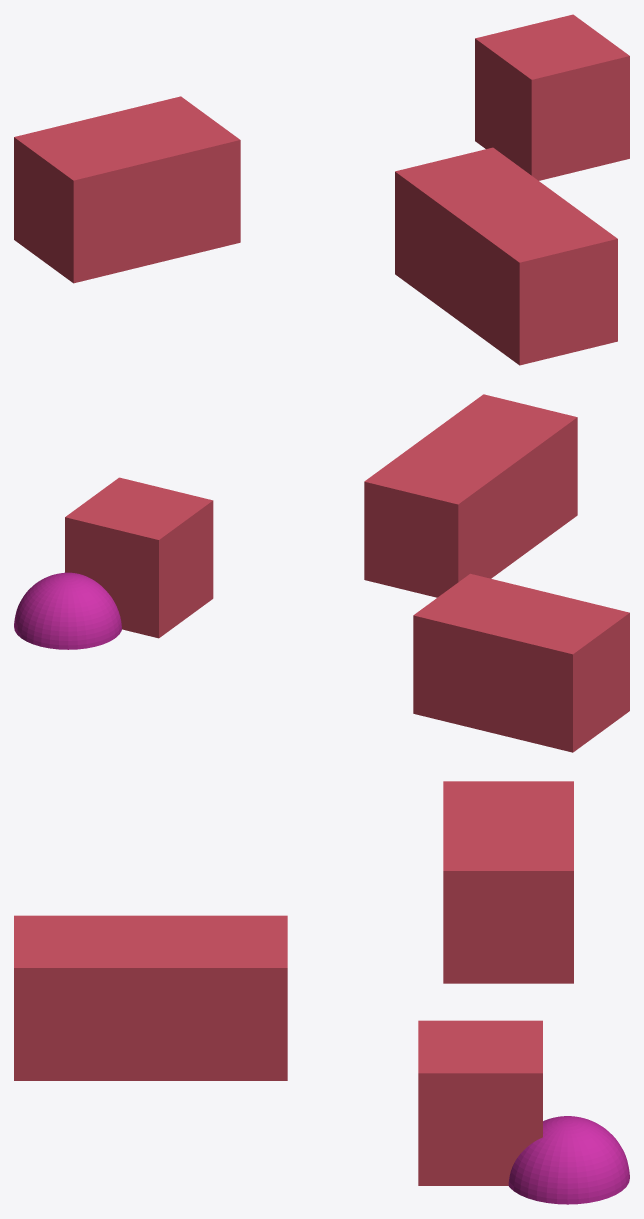
Rendered from VincentBlocks.glb.
3 renders of one model, top to bottom at view 1: azimuth 30°, elevation 25°; view 2: azimuth 150°, elevation 25°; view 3: azimuth 270°, elevation 25°, orthographic. The views are drawn at different scales.
Parts seen in each view (by area): view 1: Mesh_Mesh_head_geo.001_lambert2SG.001; view 2: Mesh_Mesh_head_geo.001_lambert2SG.001; view 3: Mesh_Mesh_head_geo.001_lambert2SG.001.
Boxes of the visible parts, box(x1,y1,x2,y2) form: Mesh_Mesh_head_geo.001_lambert2SG.001: box(14, 14, 629, 365); Mesh_Mesh_head_geo.001_lambert2SG.001: box(14, 394, 629, 752); Mesh_Mesh_head_geo.001_lambert2SG.001: box(14, 781, 629, 1204).
Bounding box in the file's own units: 118 × 20 × 99.
